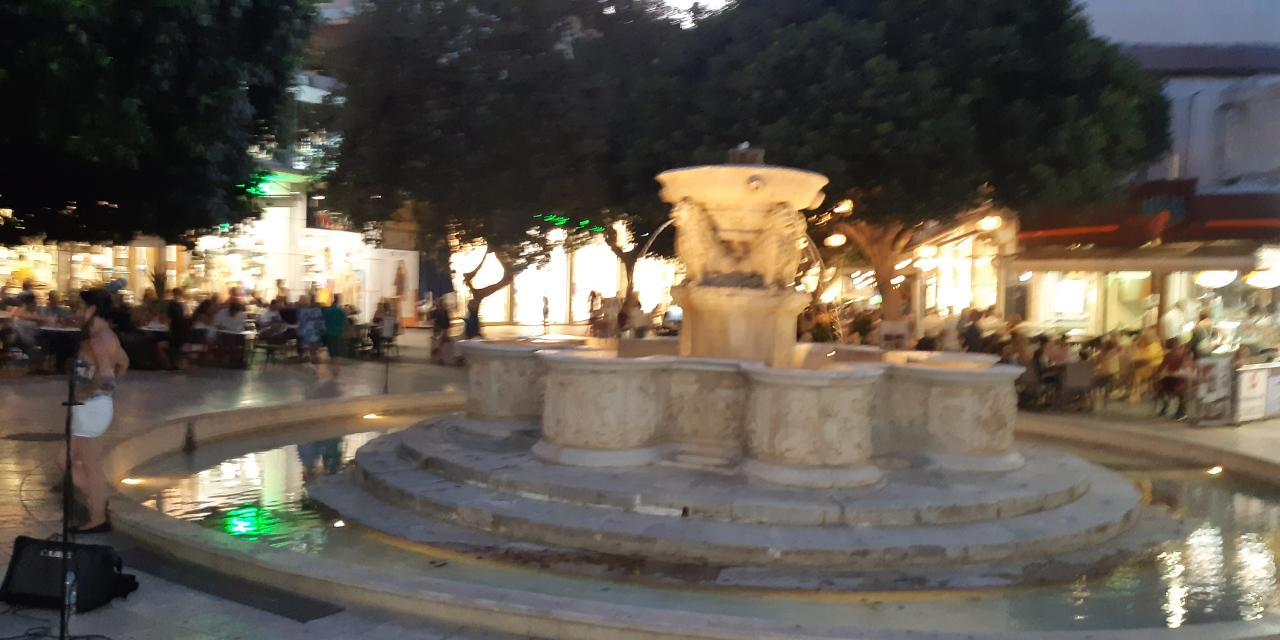Liontaria: (468, 158, 1028, 470)
